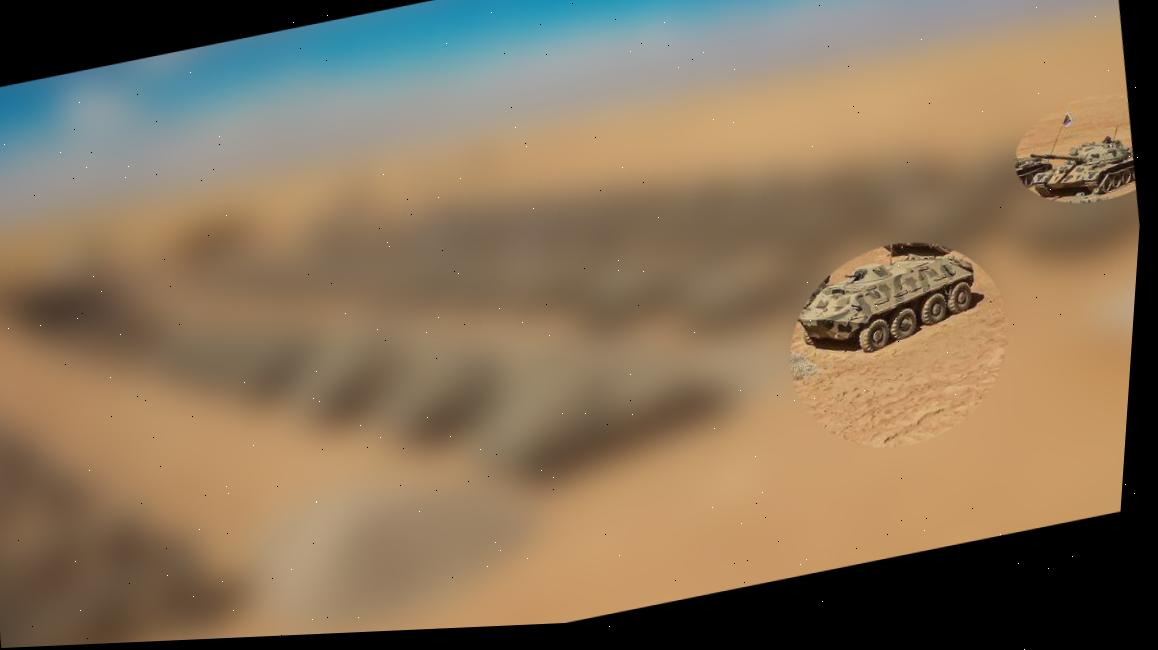armored_car: (790, 237, 989, 364)
tank: (1013, 123, 1140, 209)
